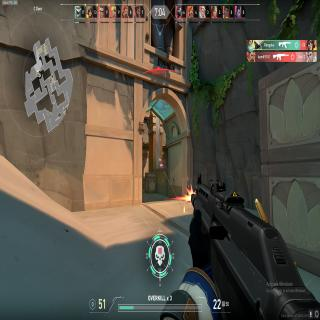ENEMY-BODY: (160, 162, 163, 168)
ENEMY-HEAD: (161, 162, 162, 165)
